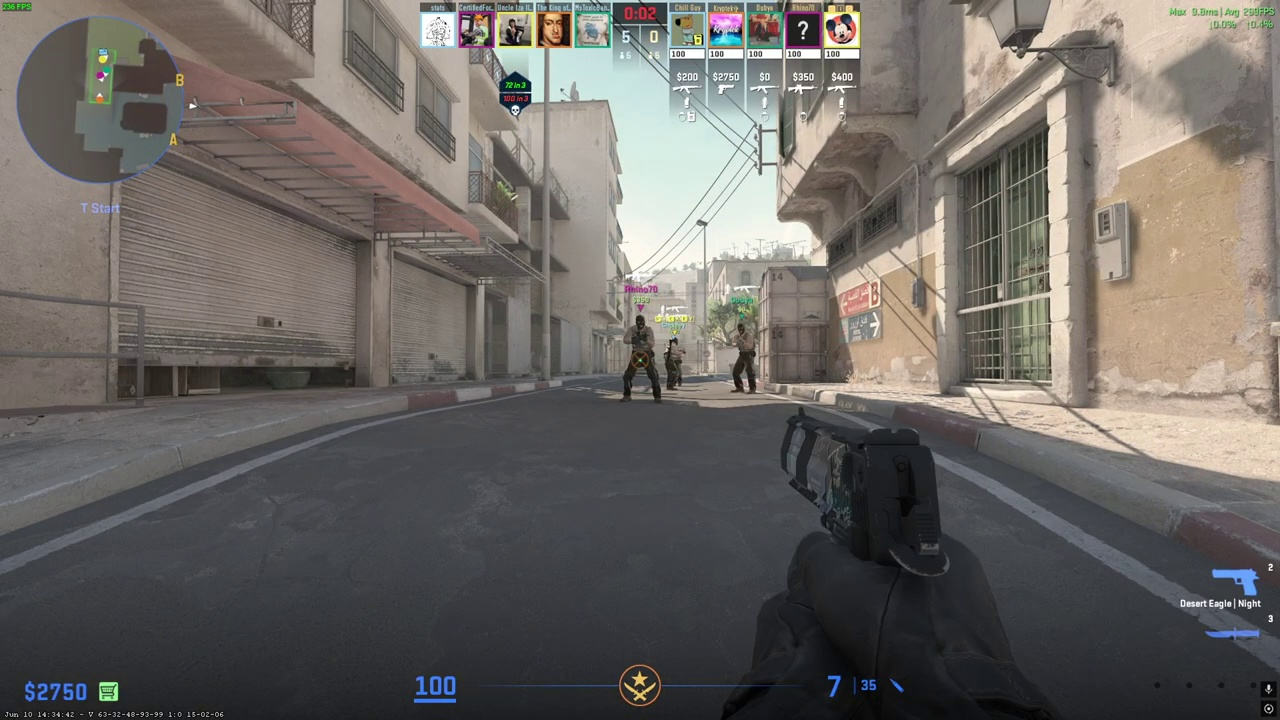Terrorist: (619, 315, 662, 403), (731, 323, 756, 394), (664, 337, 683, 390)
